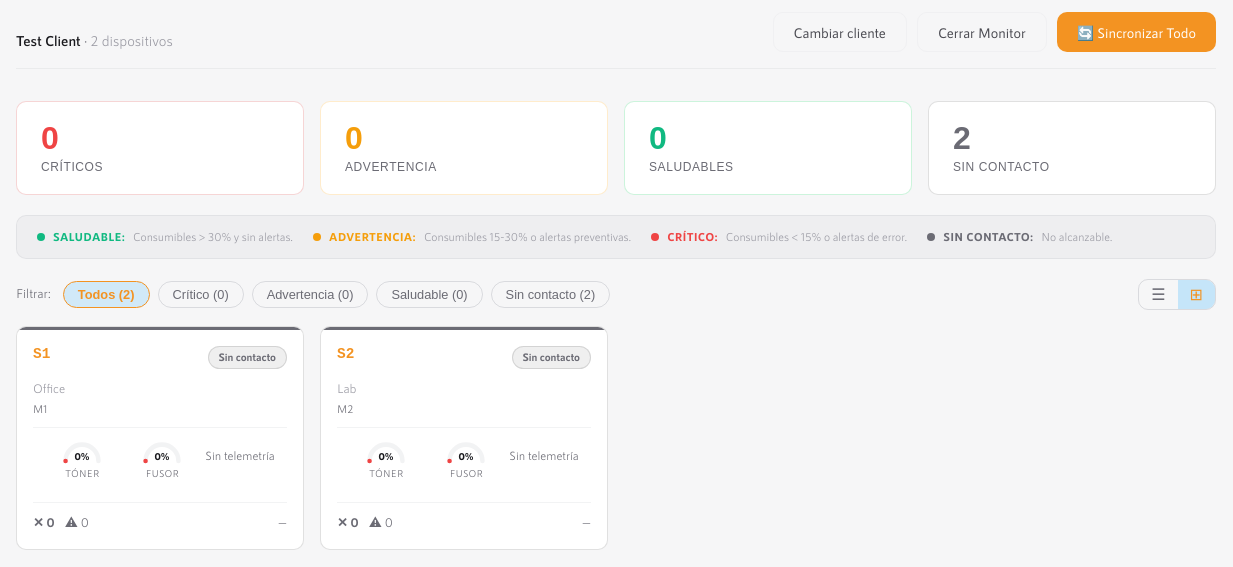
Test case: MonitorDashboard › updates dashboard after scanning fleet
The width and height of the screenshot is (1233, 567).
Expected: the link "S1" is shown, x1=33 y1=346 x2=50 y2=363
Click the button "🔄 Sincronizar Todo": (1136, 32) x1=1057 y1=12 x2=1216 y2=52
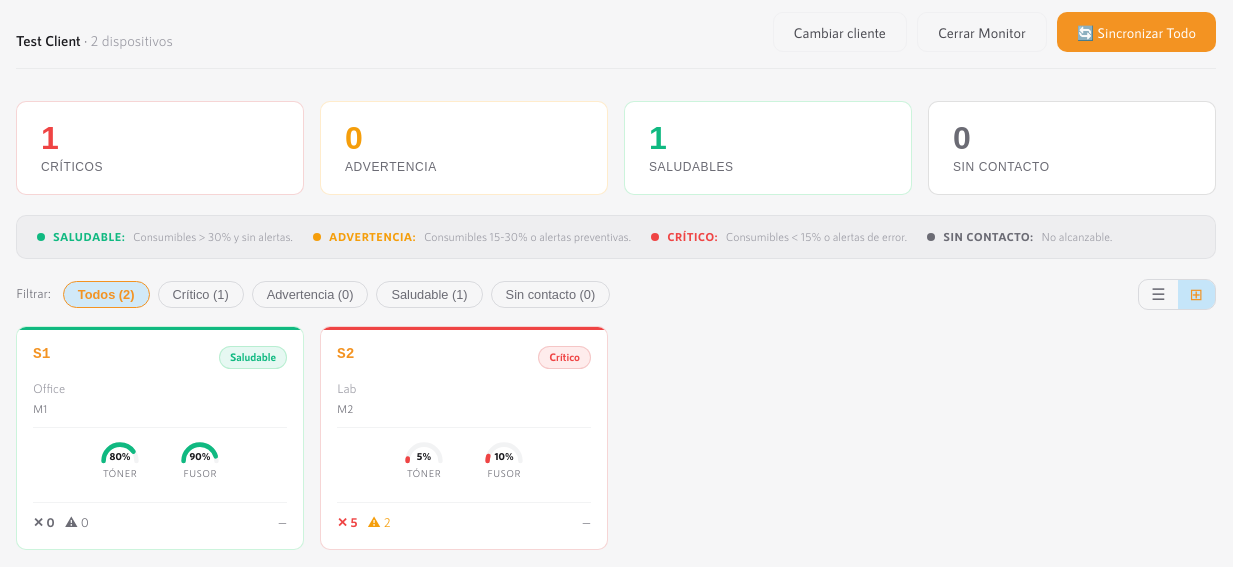
Expected: the text "Saludable" is shown, x1=219 y1=346 x2=287 y2=369
Expected: the text "Crítico" is shown, x1=538 y1=346 x2=591 y2=369
